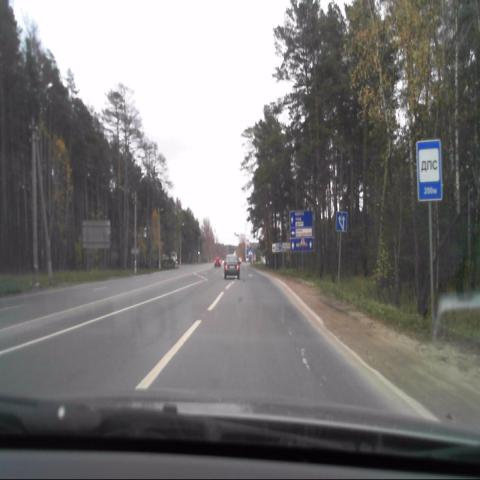5_15_3: (336, 211, 348, 231)
7_12: (418, 140, 442, 202)
